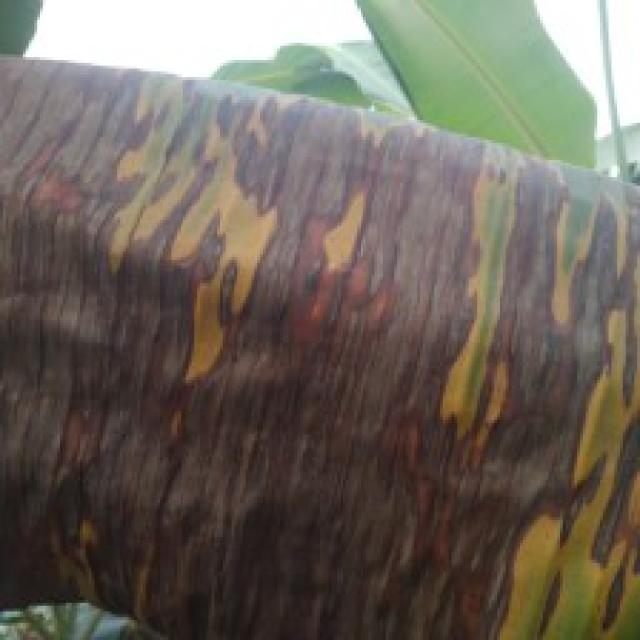Early_leaf_spot: (0, 51, 640, 640)
